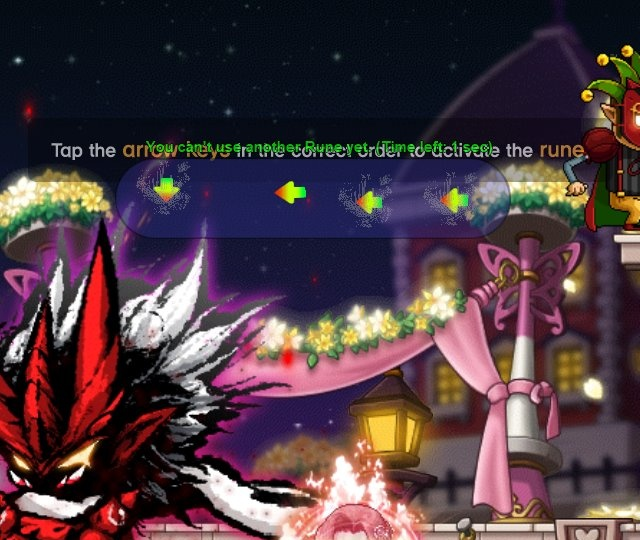rune_box: (105, 149, 523, 245)
